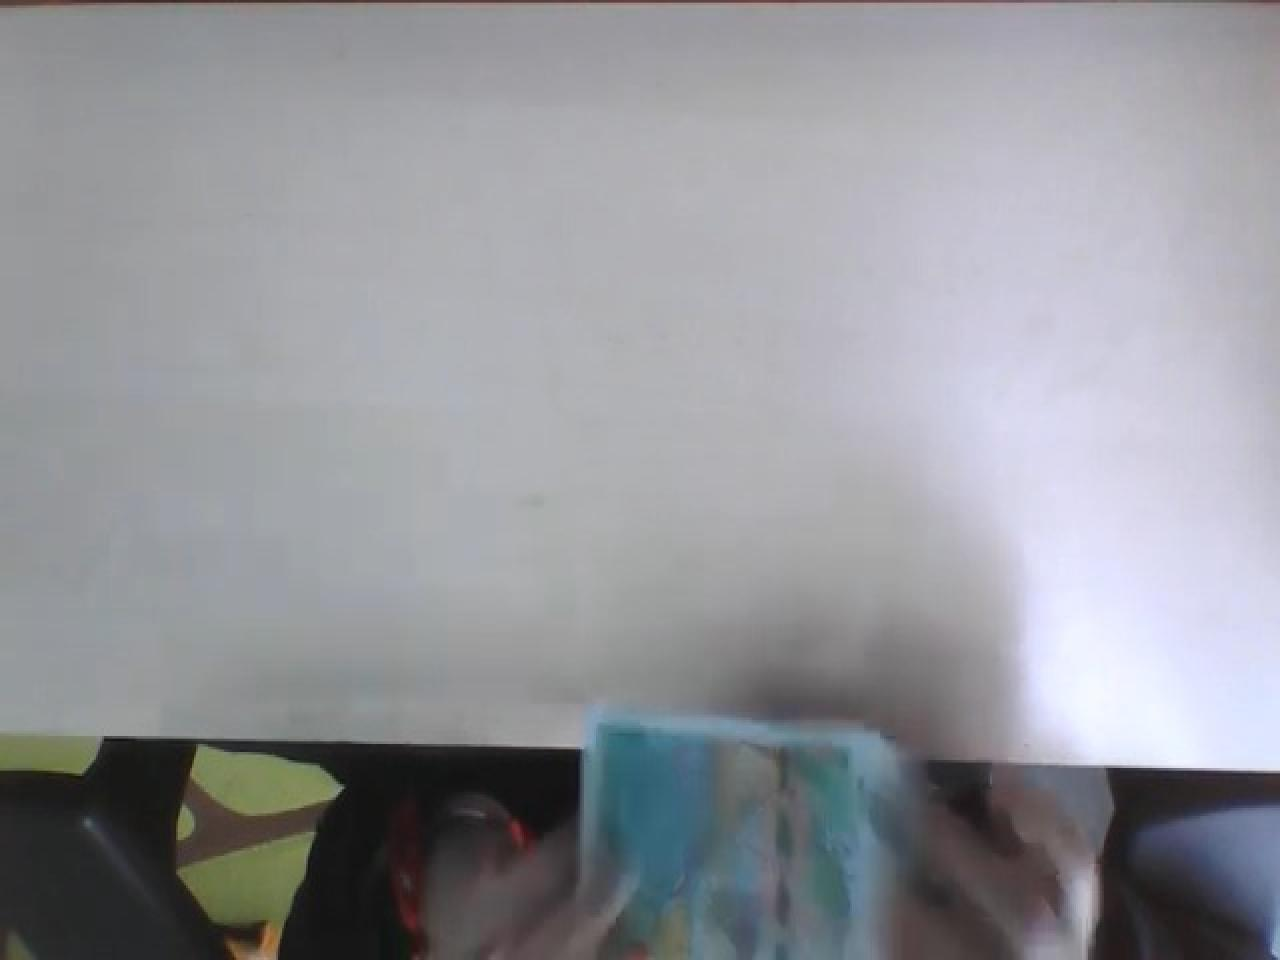100leva: (577, 712, 926, 960)
